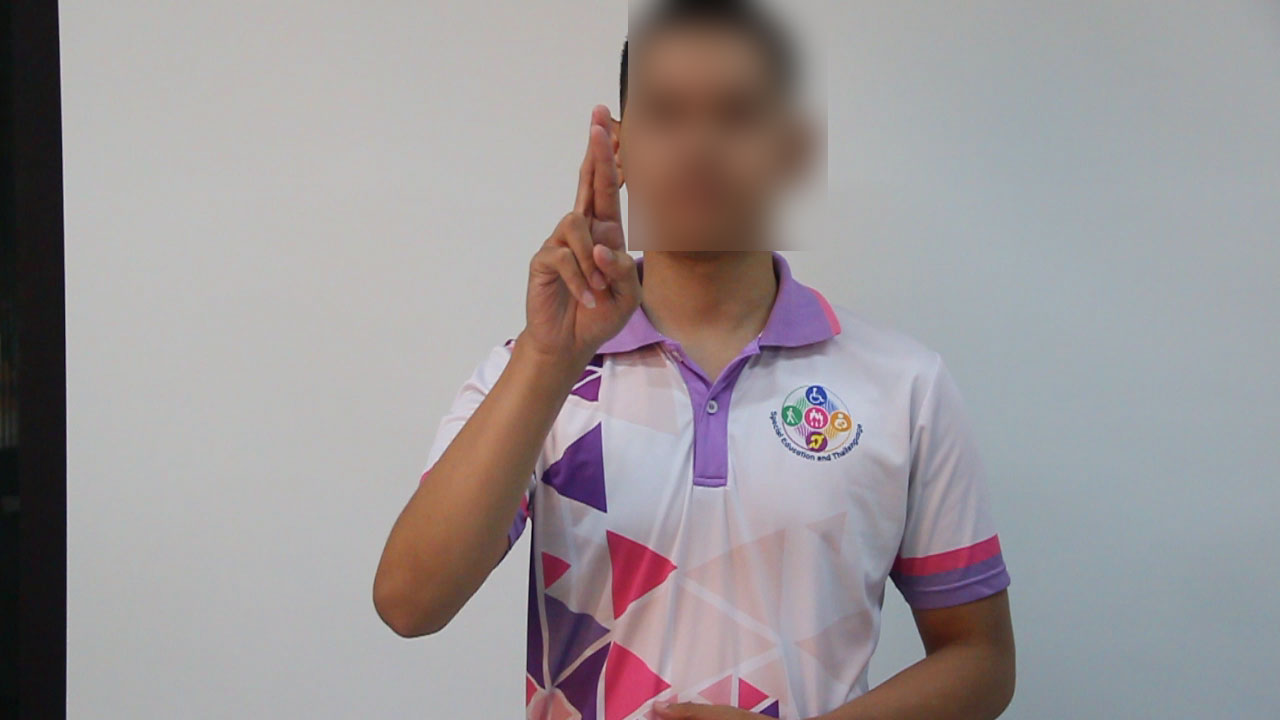rao: (508, 98, 654, 379)
